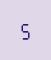five: (19, 19, 29, 40)
